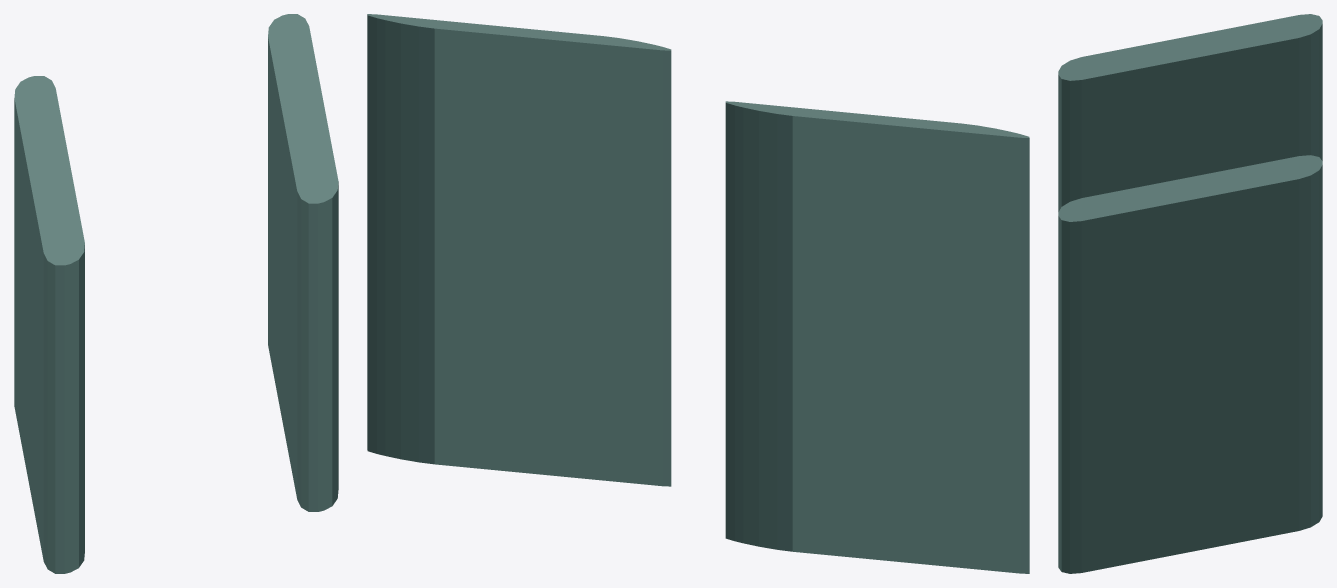
The model's file is Door_Jamb.gltf.
The picture shows the model from 3 angles, left to right: view 1: azimuth 30°, elevation 25°; view 2: azimuth 150°, elevation 25°; view 3: azimuth 270°, elevation 25°; orthographic projection. The views are drawn at different scales.
Parts seen in each view (by area): view 1: Door_Jamb_baked; view 2: Door_Jamb_baked; view 3: Door_Jamb_baked.
Boxes of the visible parts, left/top/right/bottom form: Door_Jamb_baked: left=14, top=14, right=338, bottom=573; Door_Jamb_baked: left=367, top=14, right=1029, bottom=573; Door_Jamb_baked: left=1058, top=14, right=1322, bottom=573.
Bounding box in the file's own units: 1.23 × 1.27 × 0.68.
